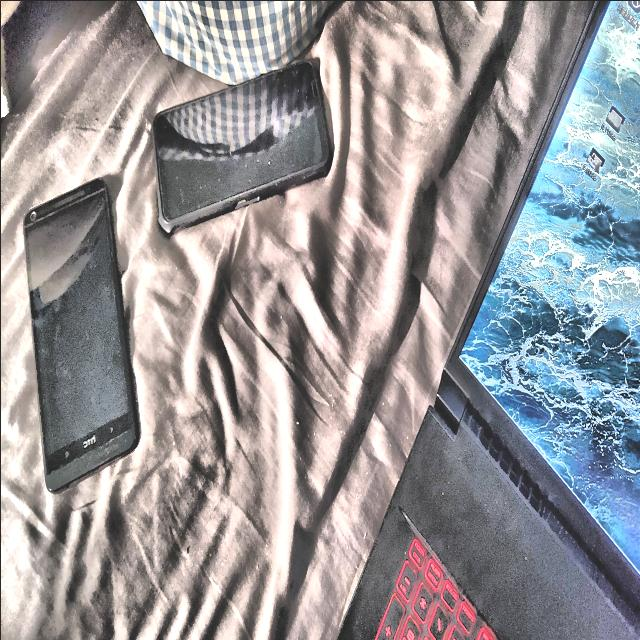Laptop: (337, 0, 640, 640)
PHONE: (23, 178, 136, 490), (151, 60, 331, 232)
